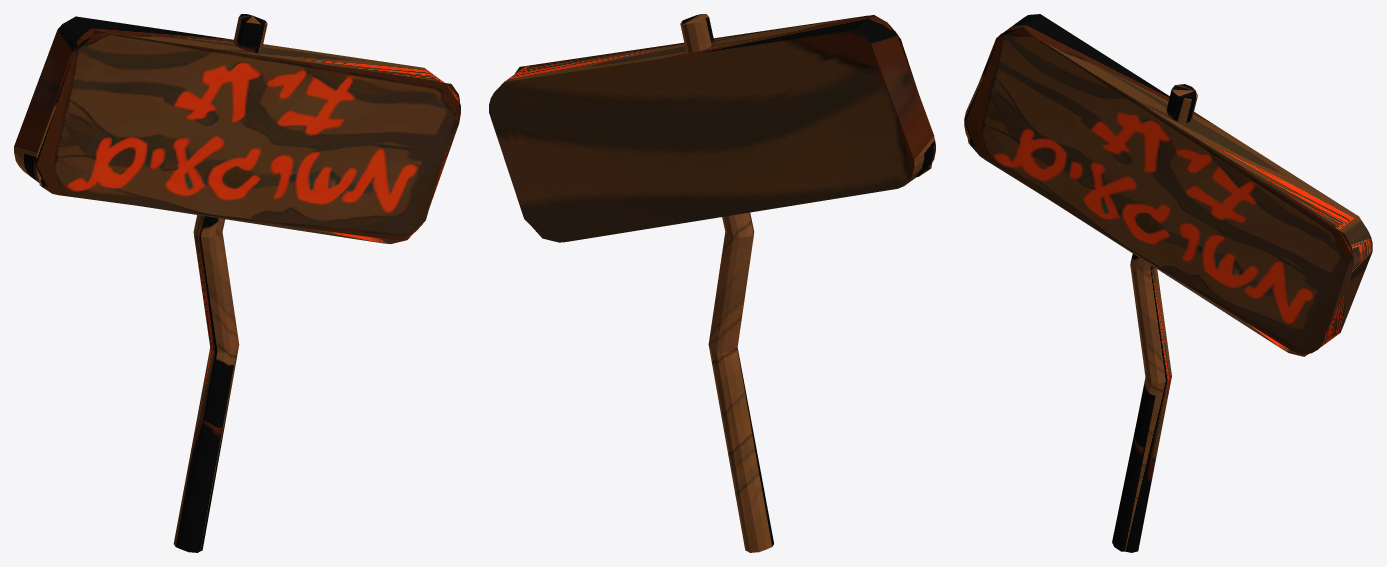
The model's file is Asign.glb.
The picture shows the model from 3 angles, left to right: view 1: azimuth 30°, elevation 25°; view 2: azimuth 150°, elevation 25°; view 3: azimuth 330°, elevation 25°; orthographic projection. The views are drawn at different scales.
Visible parts, largest first — view 1: Asign; view 2: Asign; view 3: Asign.
Part boxes in pixels (left/top/right/bottom): Asign: left=14, top=14, right=460, bottom=552; Asign: left=489, top=14, right=935, bottom=552; Asign: left=964, top=14, right=1372, bottom=552.
Size of the model in its own units: 342 by 424 by 30.
1 material, 1 textured.
